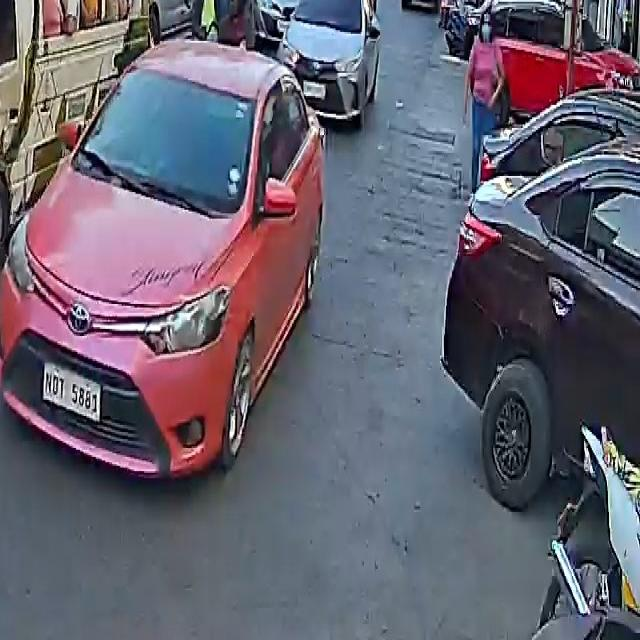car: (0, 36, 331, 477), (446, 110, 640, 516), (466, 0, 638, 132), (286, 0, 384, 128), (252, 0, 311, 44), (399, 0, 442, 4)
